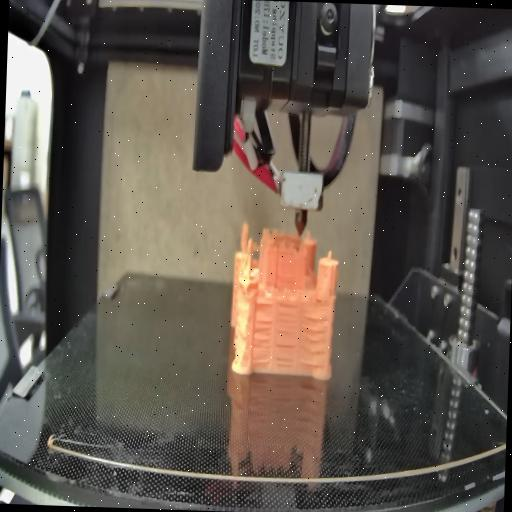cracks: (299, 316, 329, 367), (252, 316, 272, 366), (275, 302, 298, 333), (274, 341, 296, 368), (255, 296, 272, 308), (311, 295, 324, 305)
